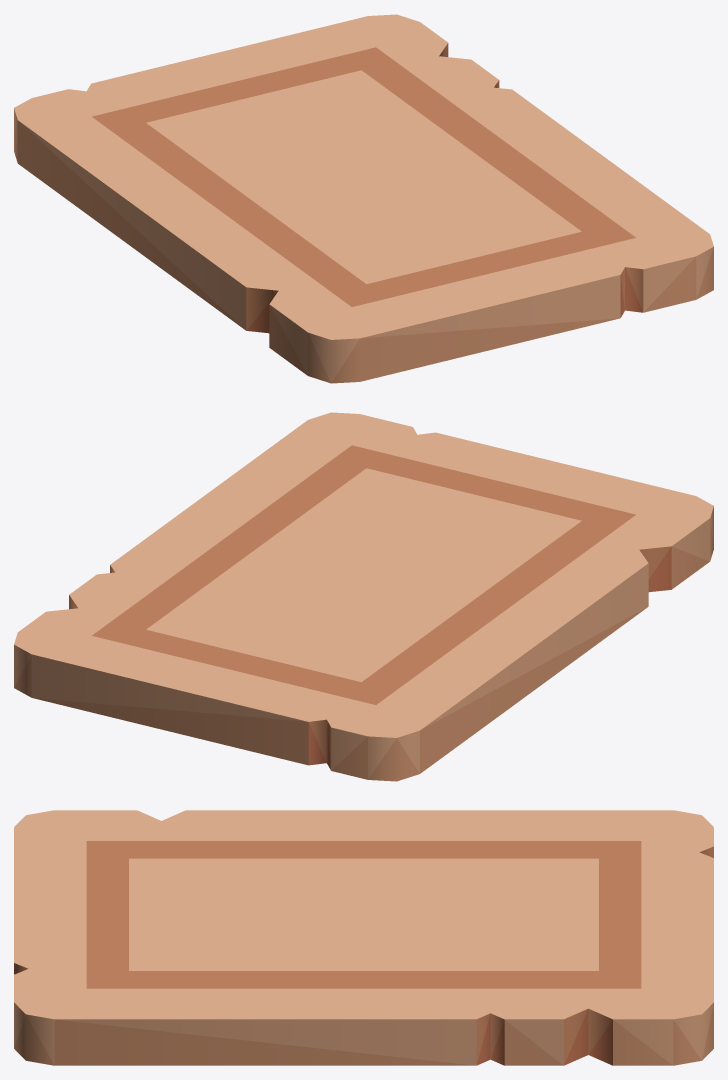
The model's file is tabua-corte.glb.
3 views of the same model, one above another, from view 1: azimuth 30°, elevation 25°; view 2: azimuth 150°, elevation 25°; view 3: azimuth 270°, elevation 25° (orthographic). The views are drawn at different scales.
Parts seen in each view (by area): view 1: cutting-board; view 2: cutting-board; view 3: cutting-board.
Part boxes in pixels (box(x1,y1,x2,y2)): cutting-board: box(14, 14, 713, 383); cutting-board: box(14, 412, 713, 781); cutting-board: box(14, 810, 713, 1065).
Size of the model in its own units: 0.58 by 0.06 by 0.82.
